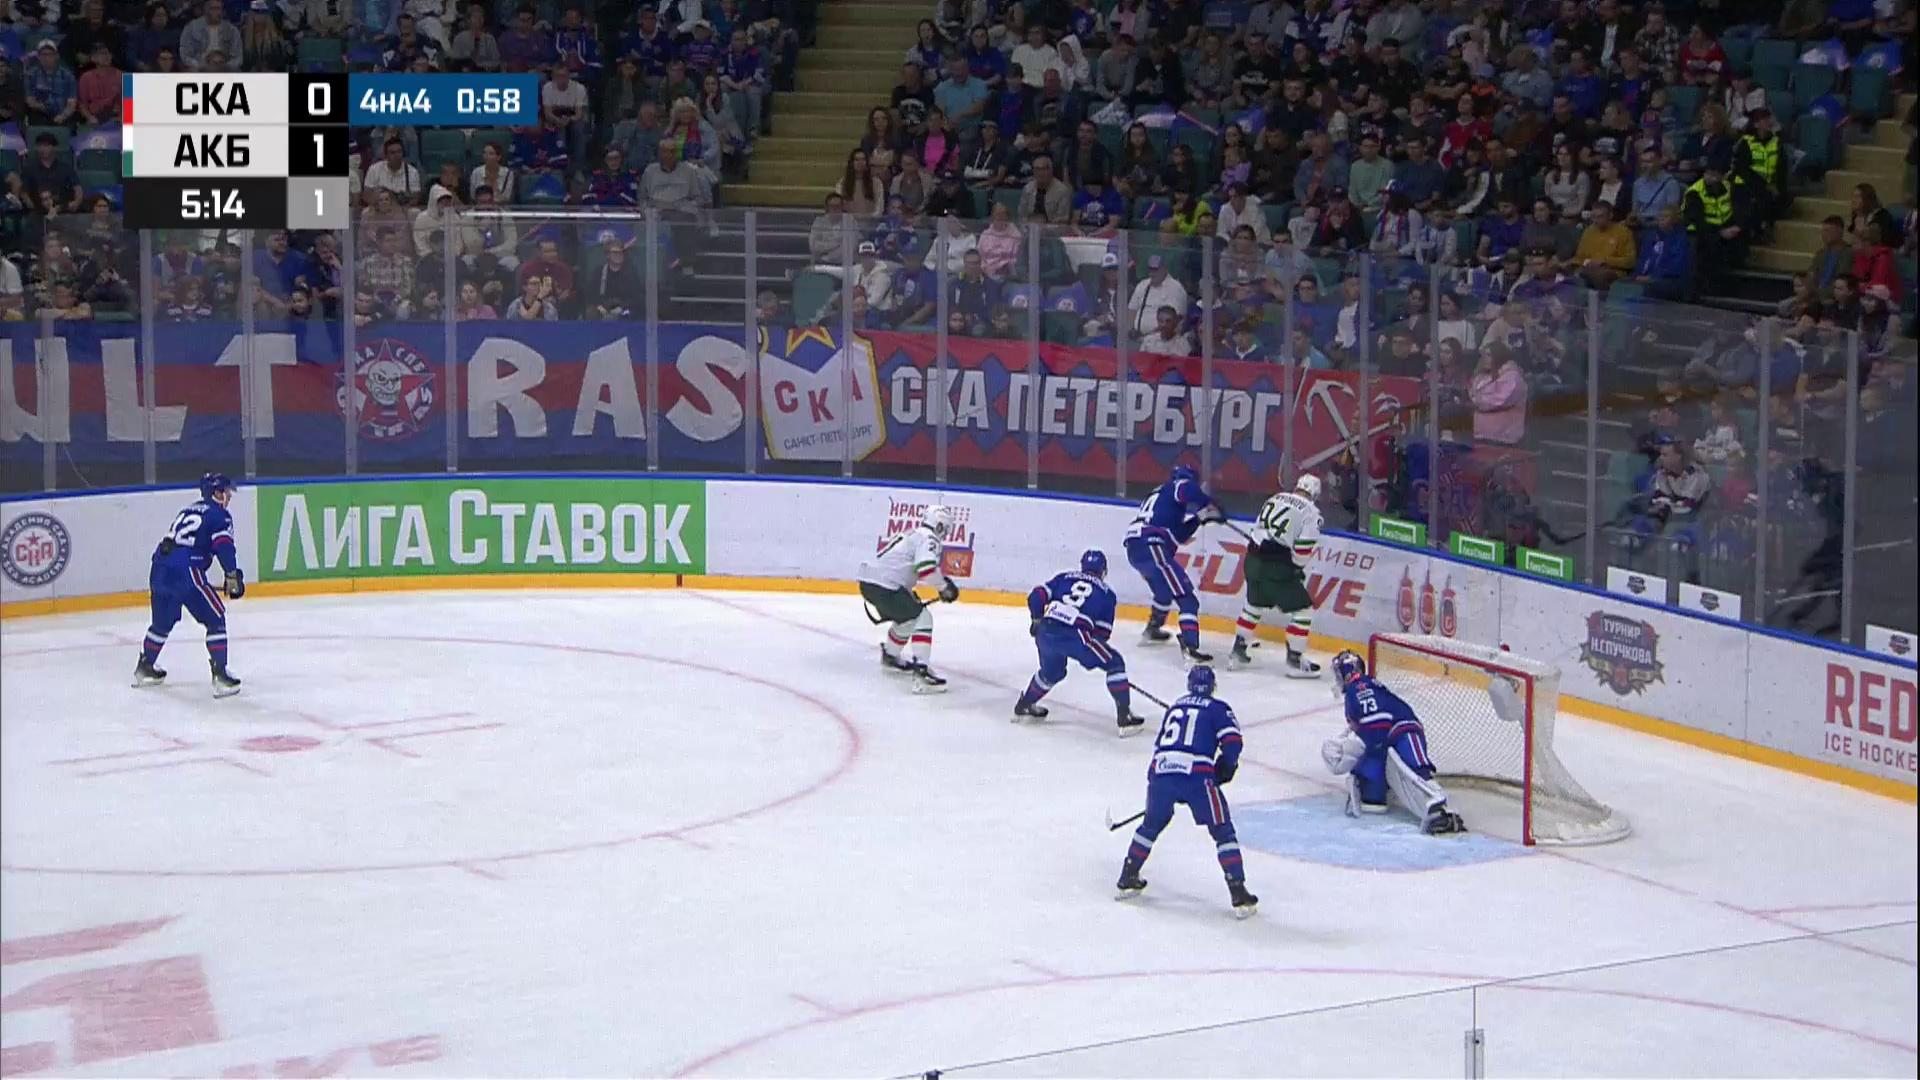ball: (1251, 642, 1261, 647)
